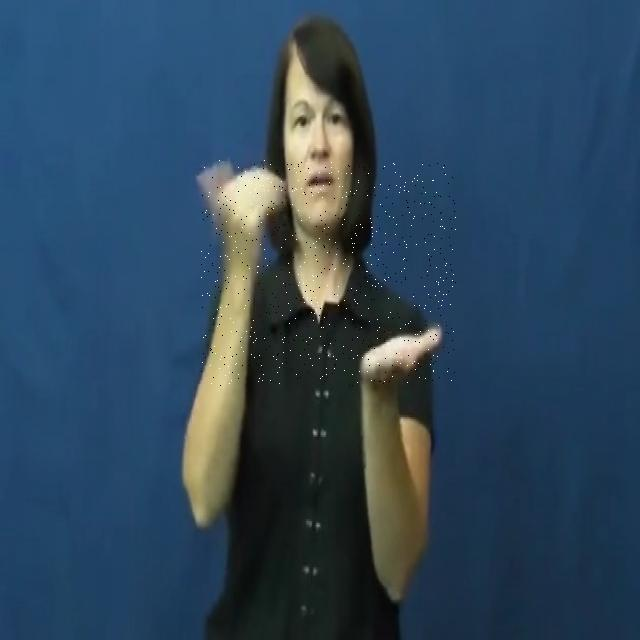refill: (201, 160, 456, 386)
